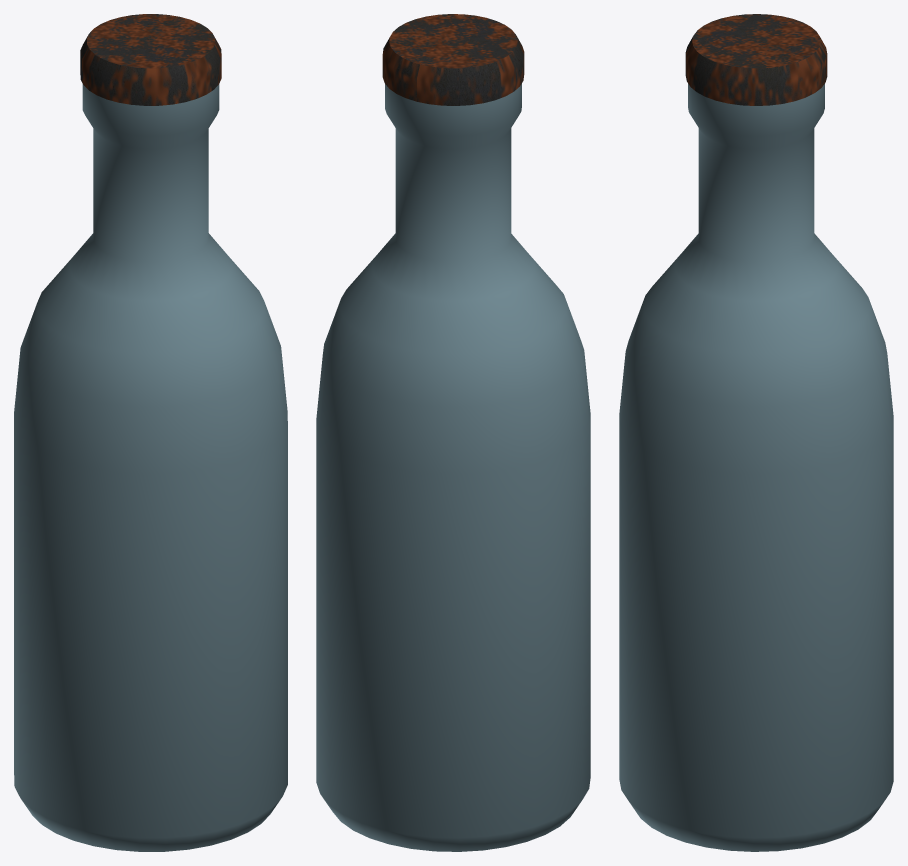
File: SM_Bottle_42de1a898a.fbx
The picture shows the model from 3 angles, left to right: view 1: azimuth 30°, elevation 25°; view 2: azimuth 150°, elevation 25°; view 3: azimuth 270°, elevation 25°; orthographic projection.
Parts seen in each view (by area): view 1: SM_Bottle_42de1a898a; view 2: SM_Bottle_42de1a898a; view 3: SM_Bottle_42de1a898a.
Part boxes in pixels (box(x1,y1,x2,y2)): SM_Bottle_42de1a898a: box(14, 14, 287, 851); SM_Bottle_42de1a898a: box(316, 14, 590, 851); SM_Bottle_42de1a898a: box(619, 14, 893, 851).
Size of what is drawn, in the model's own units: 12.8 by 12.8 by 39.4.
Materials: 2 (1 with a texture image).
